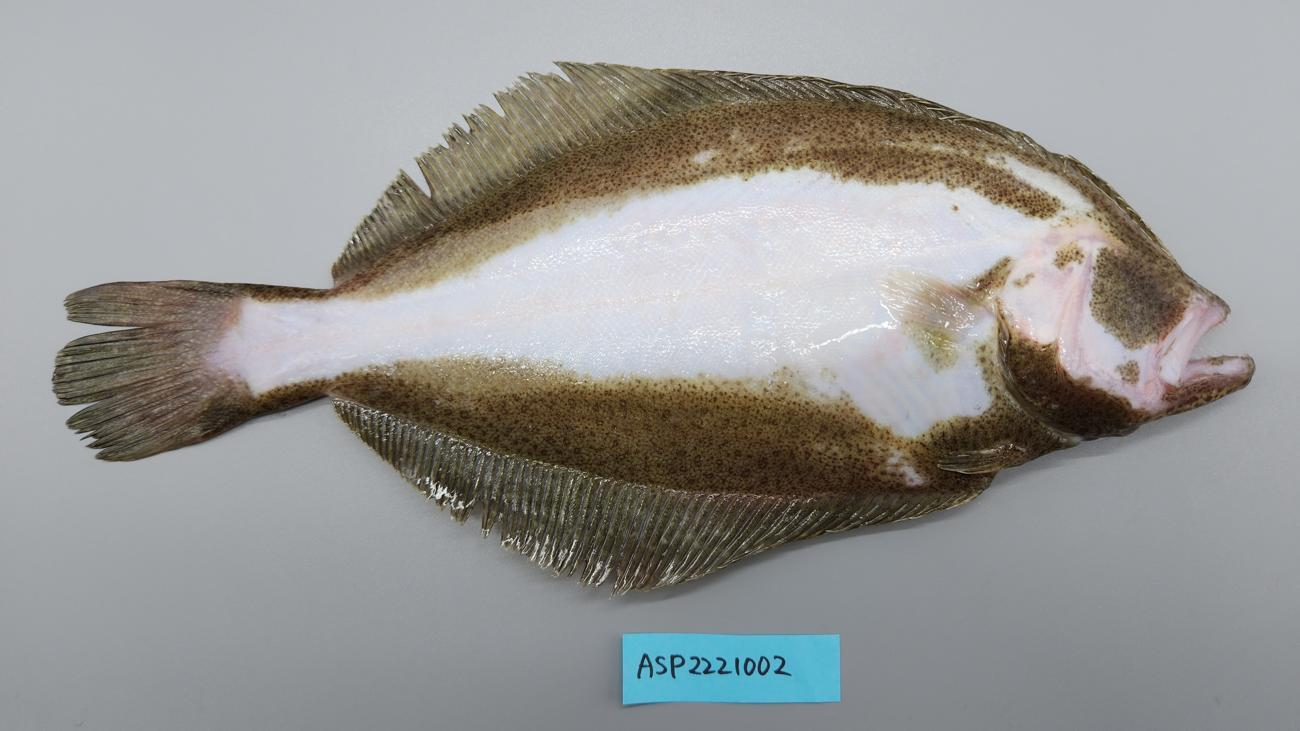SPDYH: (652, 425, 939, 497), (197, 284, 295, 394)
SPOUY: (47, 54, 1264, 602)
